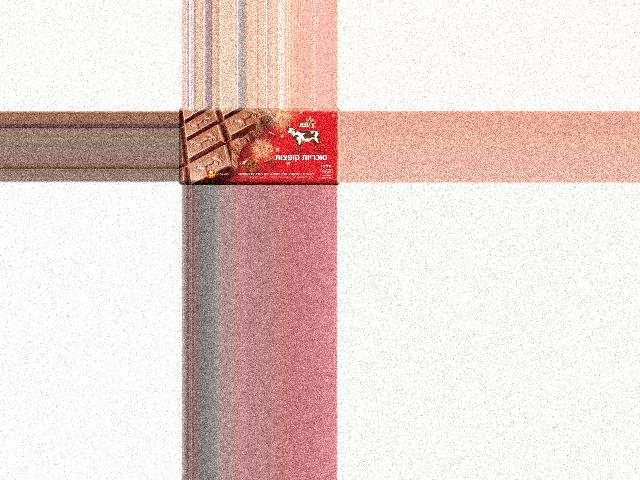chocolate: (179, 108, 340, 184)
